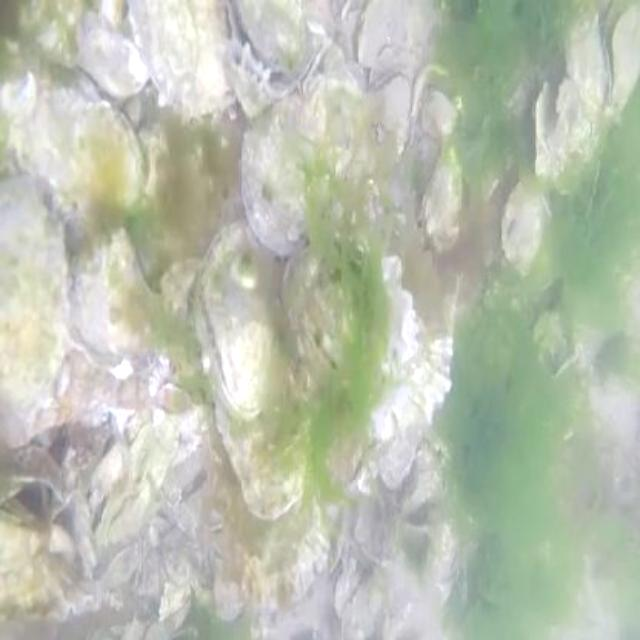Oyster-Closed: (195, 218, 291, 422), (241, 92, 352, 257), (0, 180, 68, 446), (24, 88, 142, 217), (211, 377, 309, 517), (18, 0, 151, 100), (72, 230, 172, 354), (125, 0, 230, 114), (0, 508, 97, 620), (372, 314, 454, 436), (374, 258, 417, 377), (423, 140, 464, 255), (499, 178, 545, 277), (369, 70, 414, 152), (344, 573, 383, 638), (300, 40, 328, 99)
Oyster-Open: (533, 1, 607, 189), (227, 0, 306, 90), (225, 39, 274, 123), (602, 0, 638, 108)
